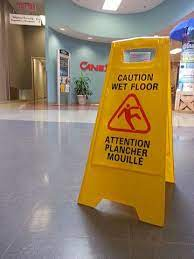wet caution sign: (84, 33, 177, 223)
